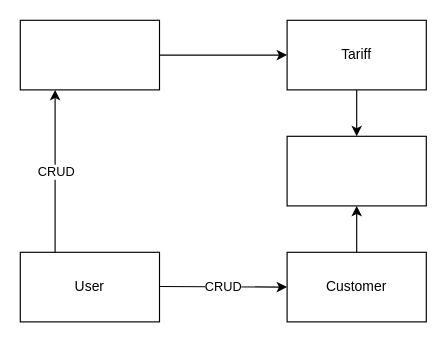
This 447x342 diagram has some shape labels left out. Each missing label, with the box of its shape:
Contract: (286, 135, 426, 206)
Service: (19, 19, 160, 90)
